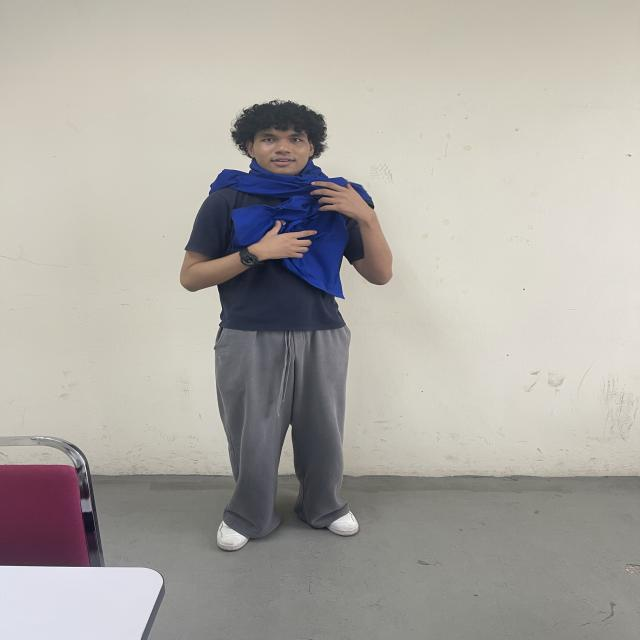person_without_labcoat: (181, 102, 392, 550)
